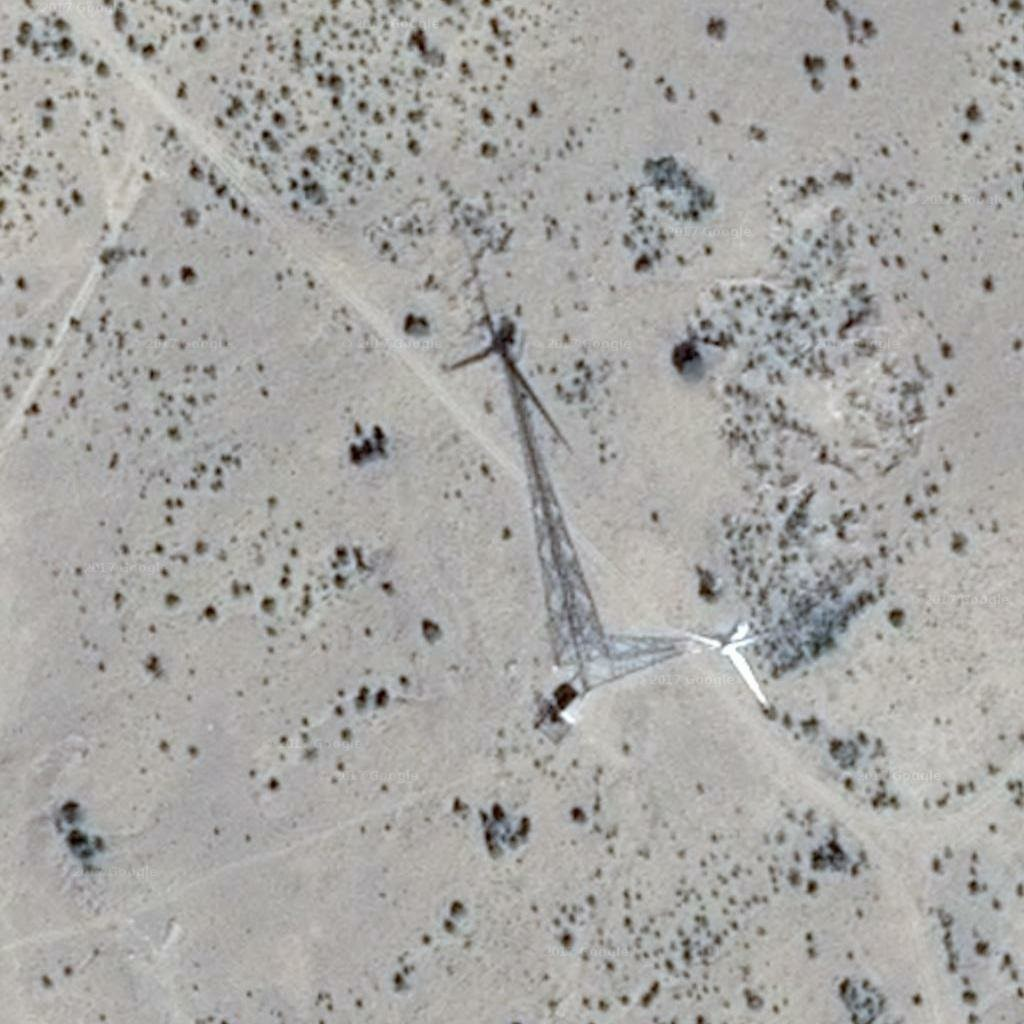Windmill: (430, 229, 621, 647)
